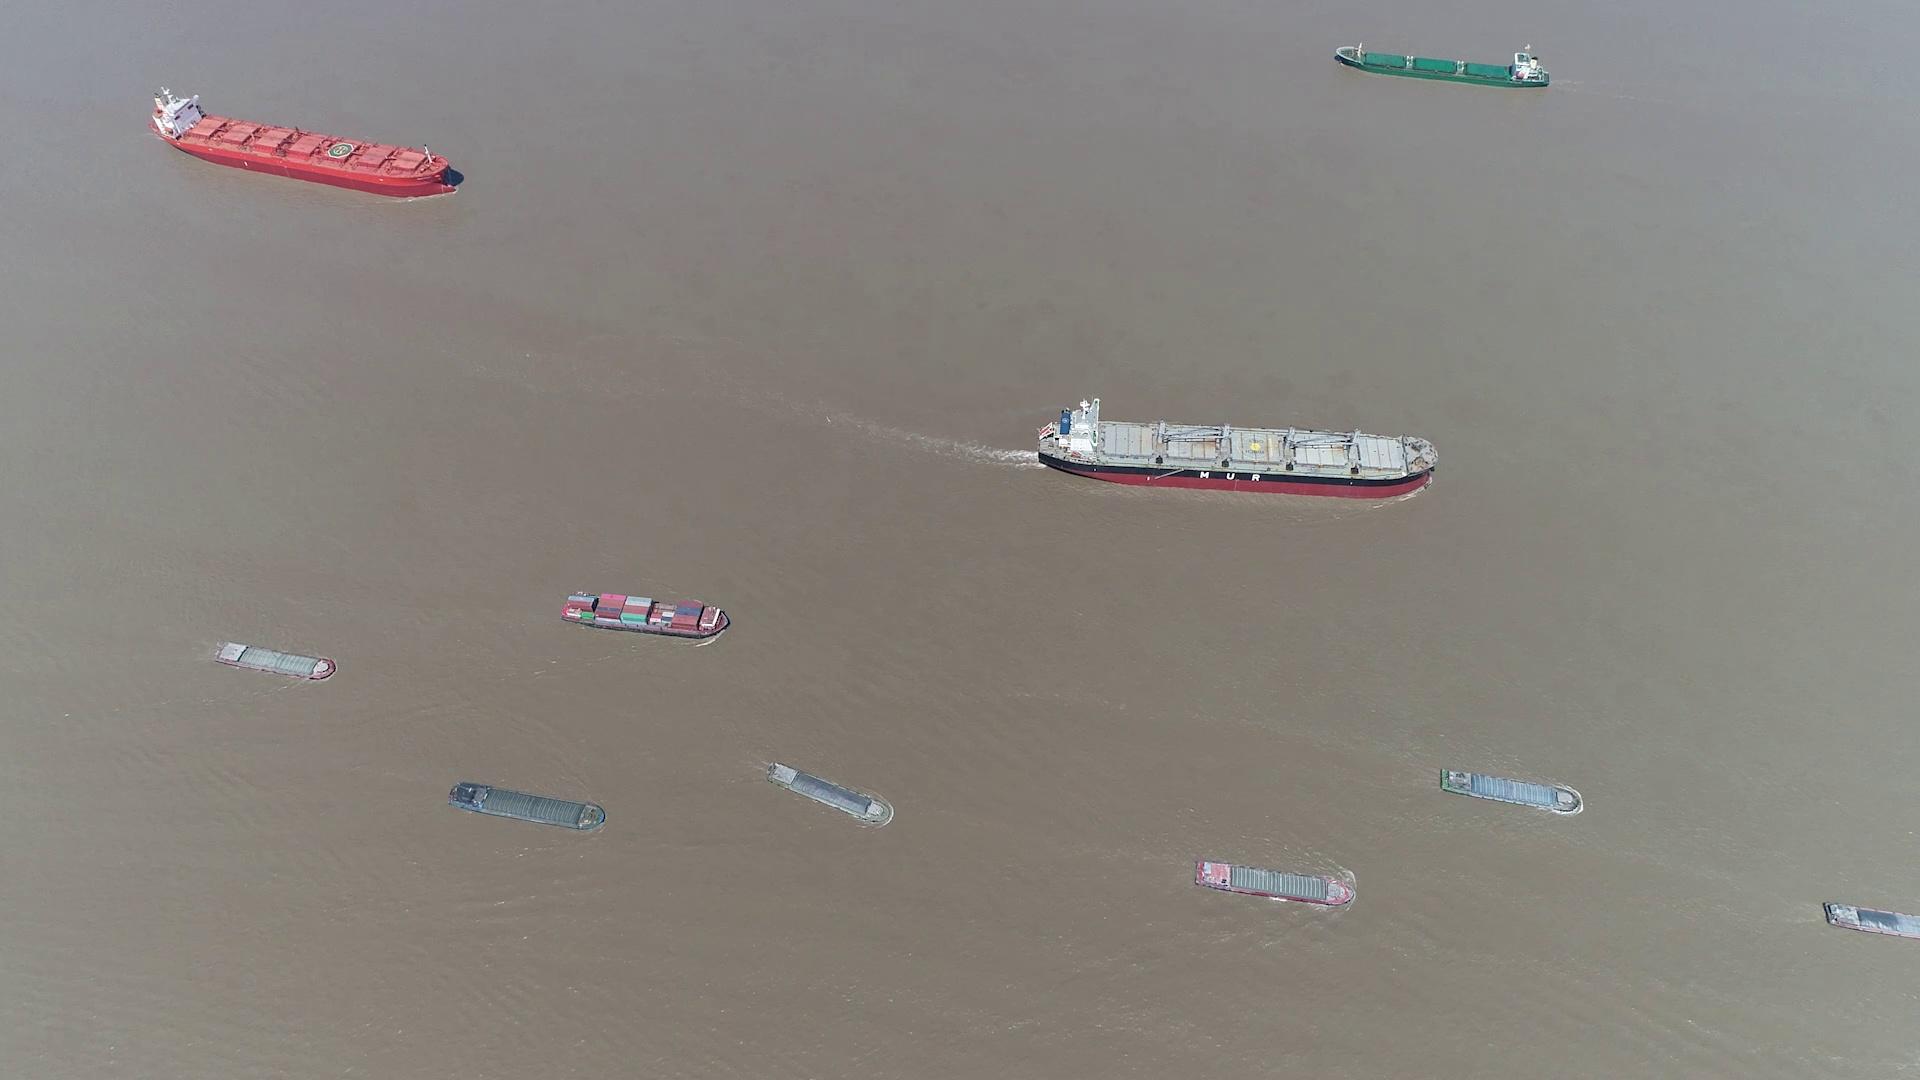ship: (1038, 405, 1435, 497), (153, 88, 459, 196), (1333, 44, 1551, 90), (560, 589, 731, 638), (767, 761, 895, 825), (448, 781, 607, 831), (1195, 862, 1358, 906), (1441, 769, 1586, 814), (214, 641, 338, 679), (1821, 901, 1919, 942)
